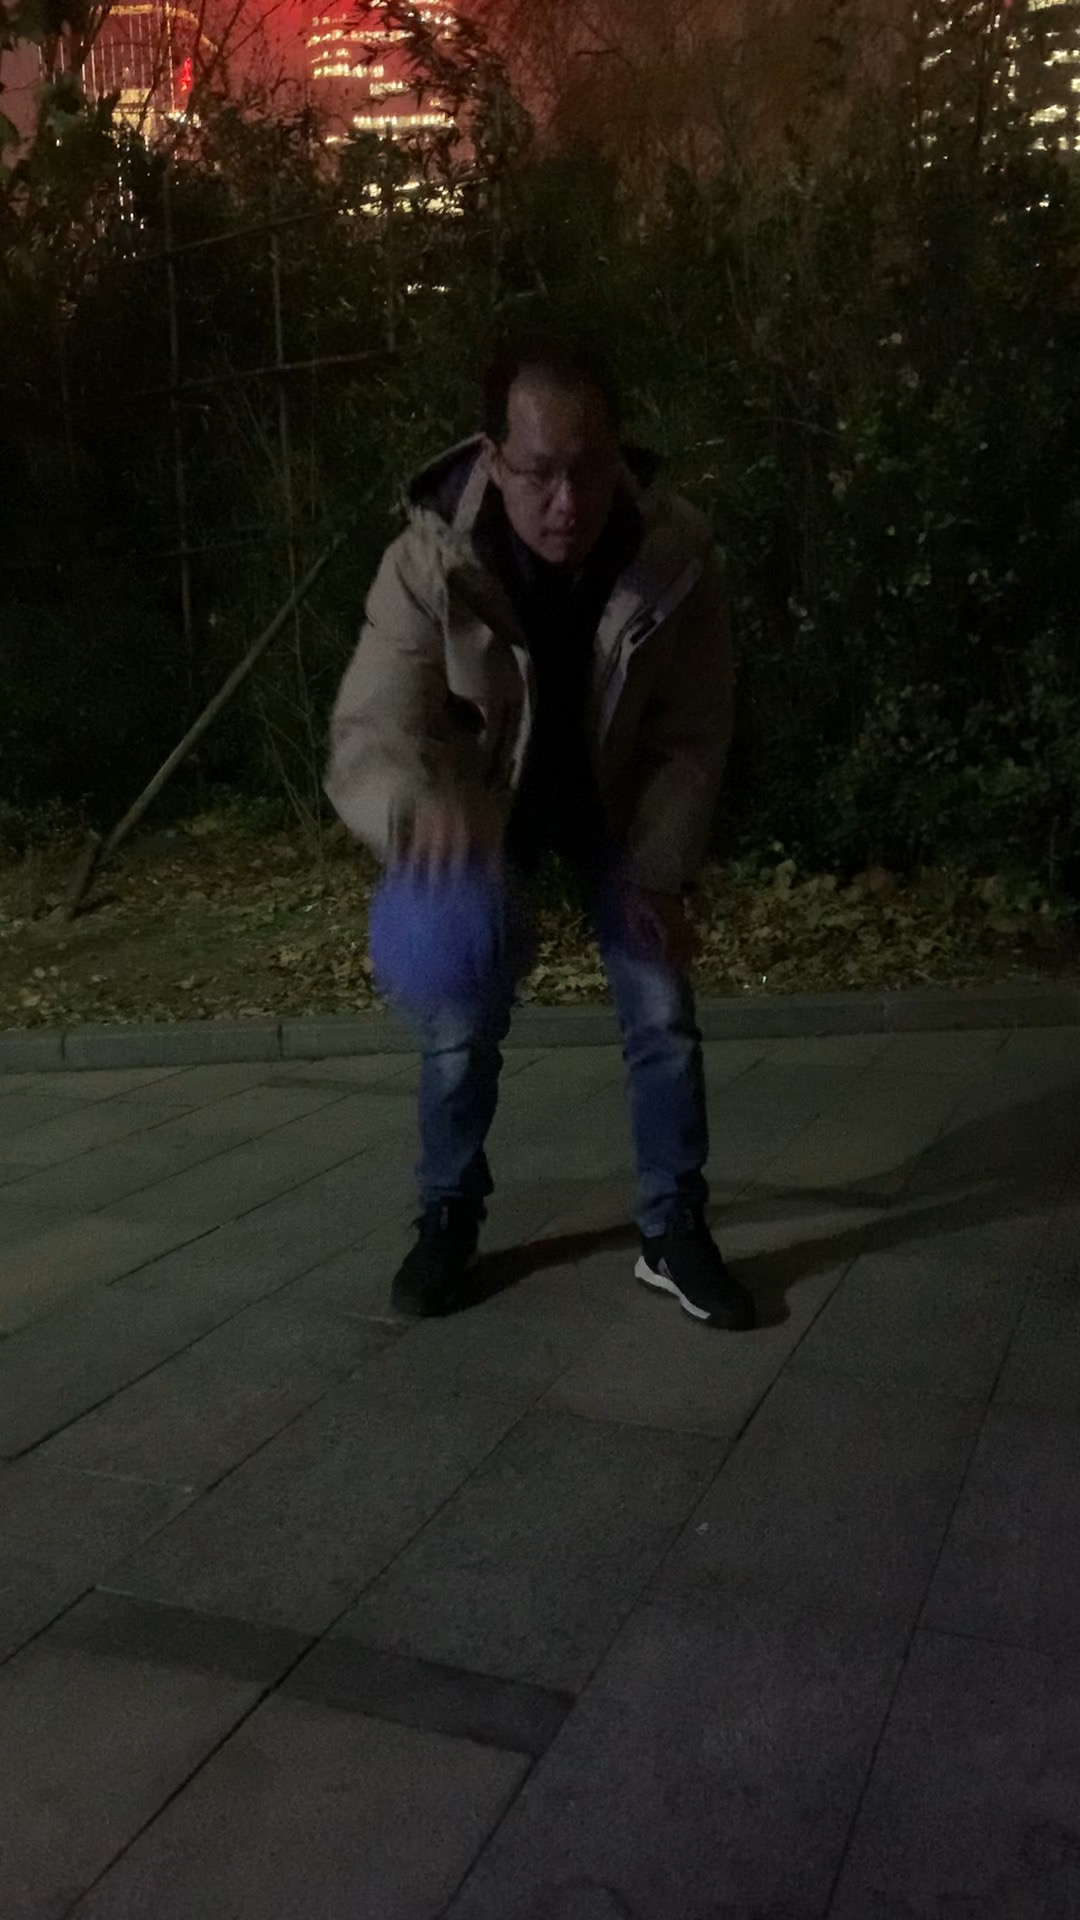ball: (360, 858, 538, 1027)
